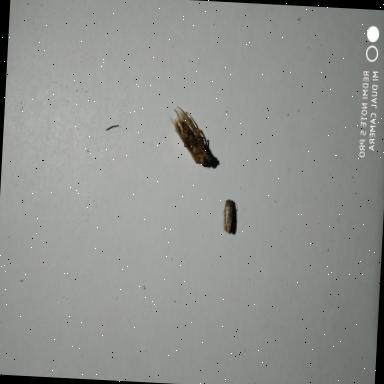pbw: (220, 198, 240, 234)
